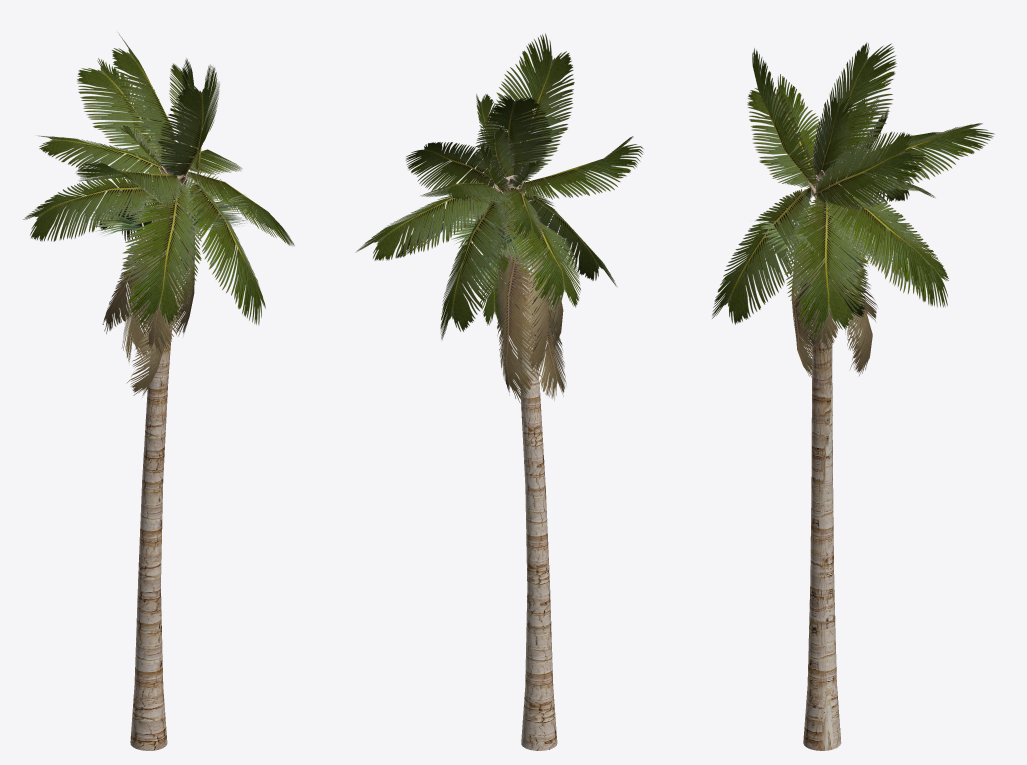
Rendered from tree-palm.glb.
3 renders of one model, left to right at view 1: azimuth 30°, elevation 25°; view 2: azimuth 150°, elevation 25°; view 3: azimuth 270°, elevation 25°, orthographic. The views are drawn at different scales.
Parts seen in each view (by area): view 1: Object_4, Object_5, Object_2, Object_3; view 2: Object_4, Object_5, Object_2, Object_3; view 3: Object_4, Object_5, Object_2, Object_3.
Boxes of the visible parts, left/top/right/bottom form: Object_4: left=23, top=32, right=294, bottom=329; Object_5: left=130, top=150, right=190, bottom=750; Object_2: left=102, top=209, right=195, bottom=397; Object_3: left=88, top=171, right=248, bottom=239; Object_4: left=356, top=33, right=644, bottom=340; Object_5: left=494, top=167, right=557, bottom=750; Object_2: left=496, top=227, right=566, bottom=403; Object_3: left=451, top=192, right=565, bottom=291; Object_4: left=712, top=42, right=994, bottom=340; Object_5: left=803, top=170, right=841, bottom=750; Object_2: left=791, top=212, right=877, bottom=377; Object_3: left=754, top=193, right=893, bottom=268.
Bounding box in the file's own units: 5.04 × 12.4 × 4.88.
Materials: 4 (4 with a texture image).
